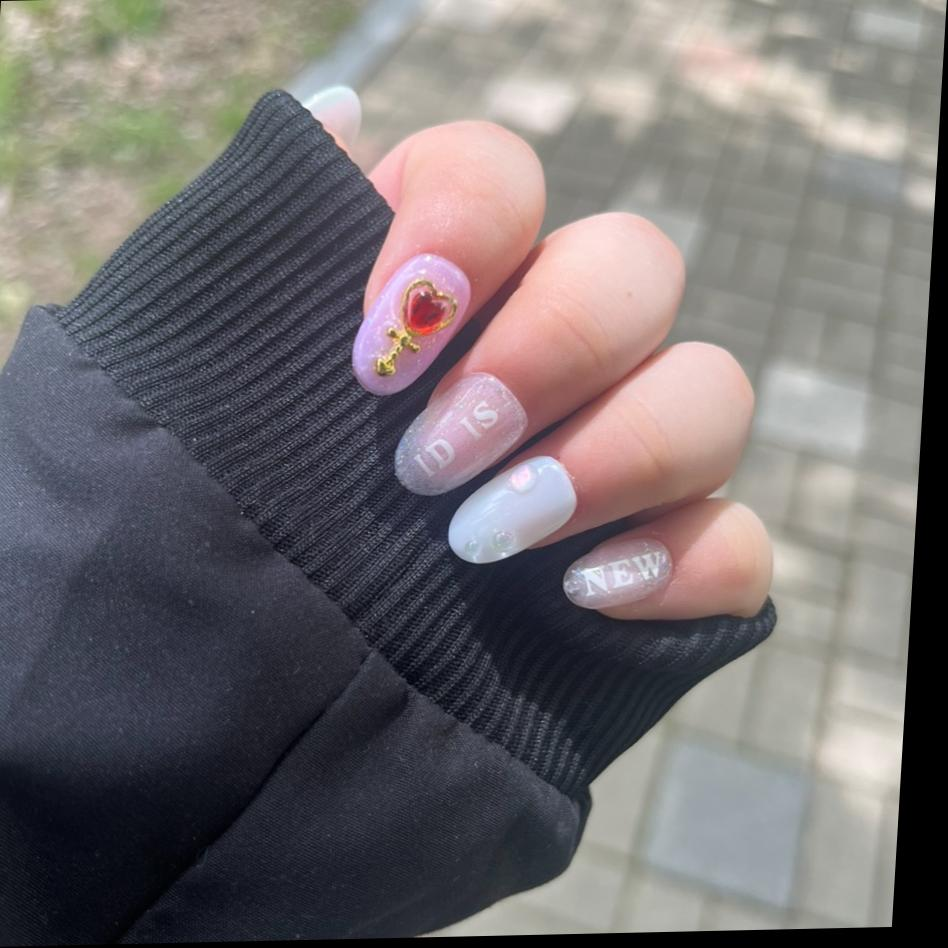nail: (347, 249, 474, 396), (389, 368, 530, 496), (444, 453, 579, 564), (559, 533, 674, 611), (298, 82, 363, 152)
